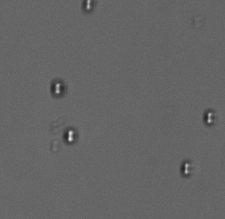Living Cell: (62, 126, 80, 146), (48, 79, 66, 97), (203, 108, 218, 127), (179, 159, 194, 177), (80, 1, 97, 11)
